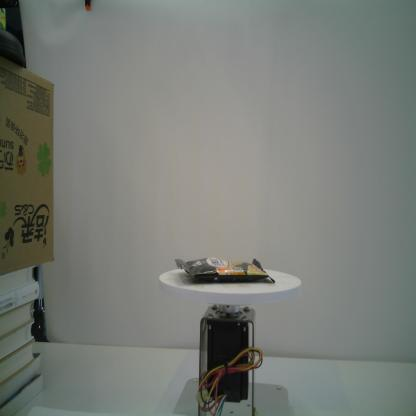Instant Drink: (175, 257, 276, 283)
